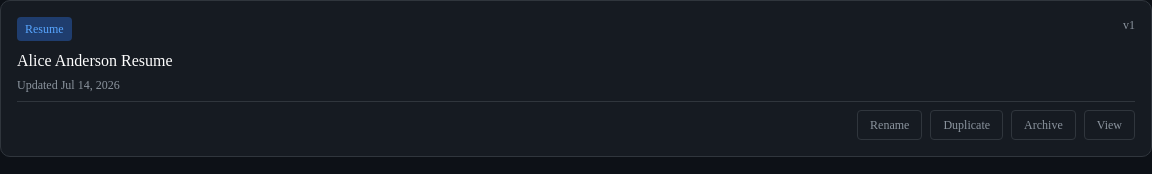
it: DocumentCard › shows a rename input pre-filled with the current title when Rename is clicked
The width and height of the screenshot is (1152, 174).
Click the button with test id "document-rename-button": coordinates (890, 125) 857,110 -> 922,140
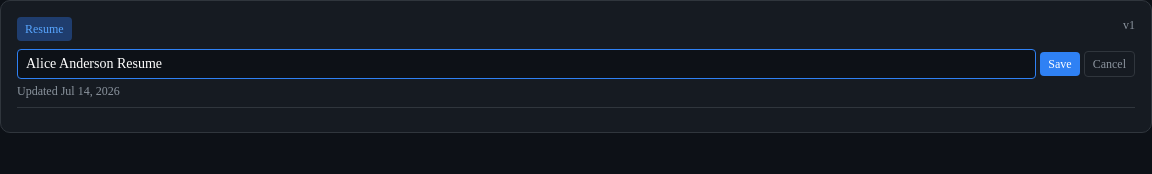
Check: the field with test id "document-rename-input" holds "Alice Anderson Resume", box 17,49 -> 1036,79
